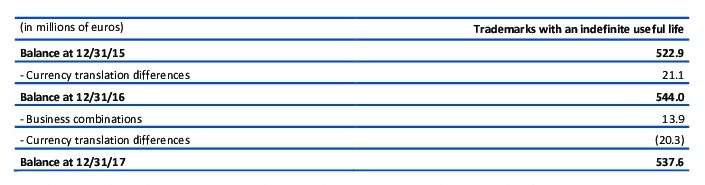table: (0, 0, 705, 185)
